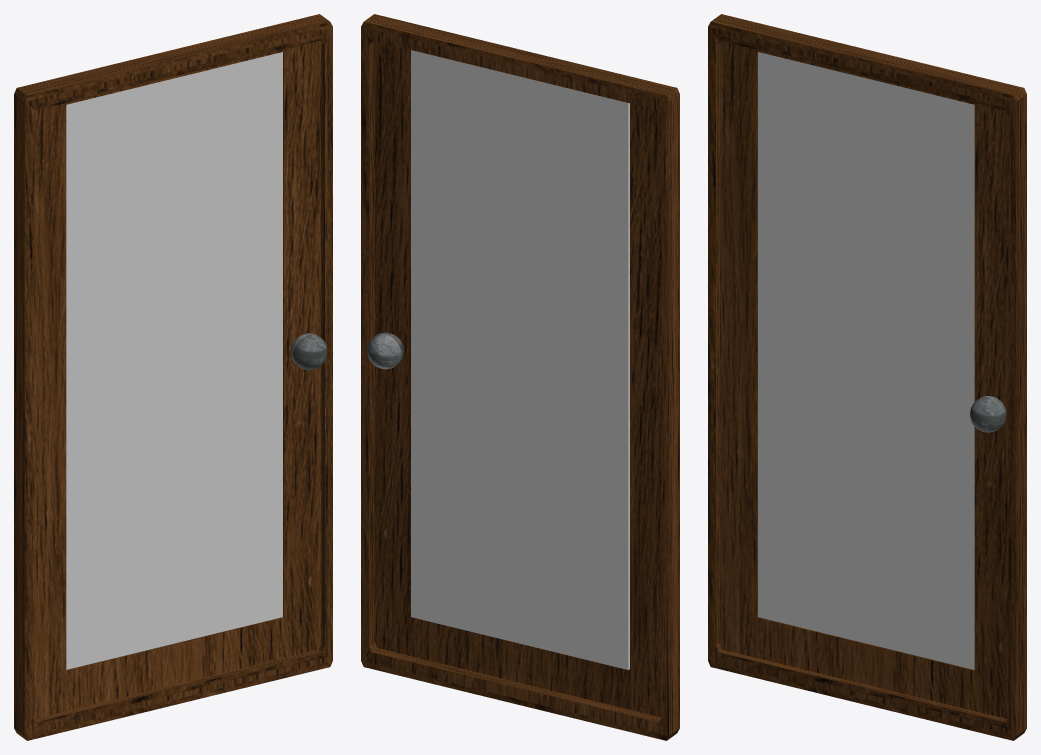
File: DOOR WITH LARGE WINDOW.glb
3 renders of one model, left to right at view 1: azimuth 30°, elevation 25°; view 2: azimuth 150°, elevation 25°; view 3: azimuth 330°, elevation 25°, orthographic.
Visible parts, largest first — view 1: GLASS, DOOR, SHEET METAL; view 2: GLASS, DOOR, SHEET METAL; view 3: GLASS, DOOR, SHEET METAL.
Boxes of the visible parts, box(x1,y1,x2,y2) form: GLASS: box(66, 52, 282, 669); DOOR: box(14, 14, 332, 740); SHEET METAL: box(291, 333, 327, 369); GLASS: box(411, 50, 629, 669); DOOR: box(361, 14, 679, 740); SHEET METAL: box(367, 332, 403, 369); GLASS: box(758, 52, 974, 669); DOOR: box(708, 14, 1026, 740); SHEET METAL: box(970, 396, 1006, 432).
Size of the model in its own units: 4.03 by 8.07 by 0.7322.
Materials: 3 (2 with a texture image).
